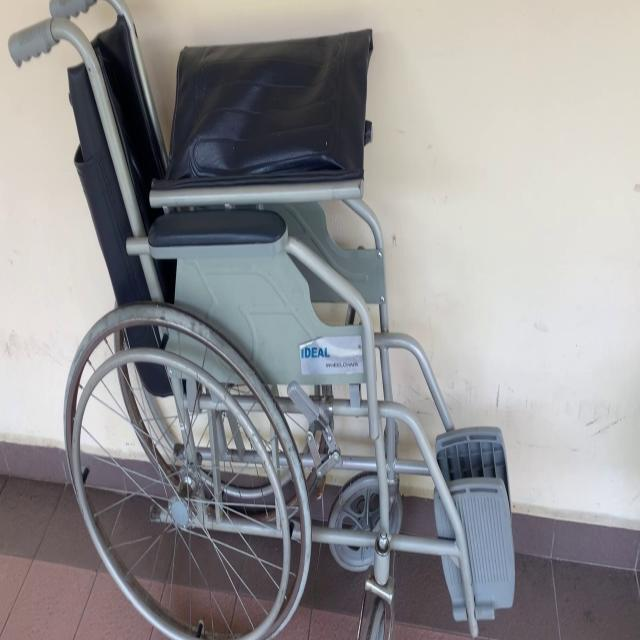wheelchair: (6, 0, 527, 640)
